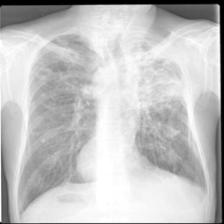tuberculosis: (16, 27, 212, 217)
